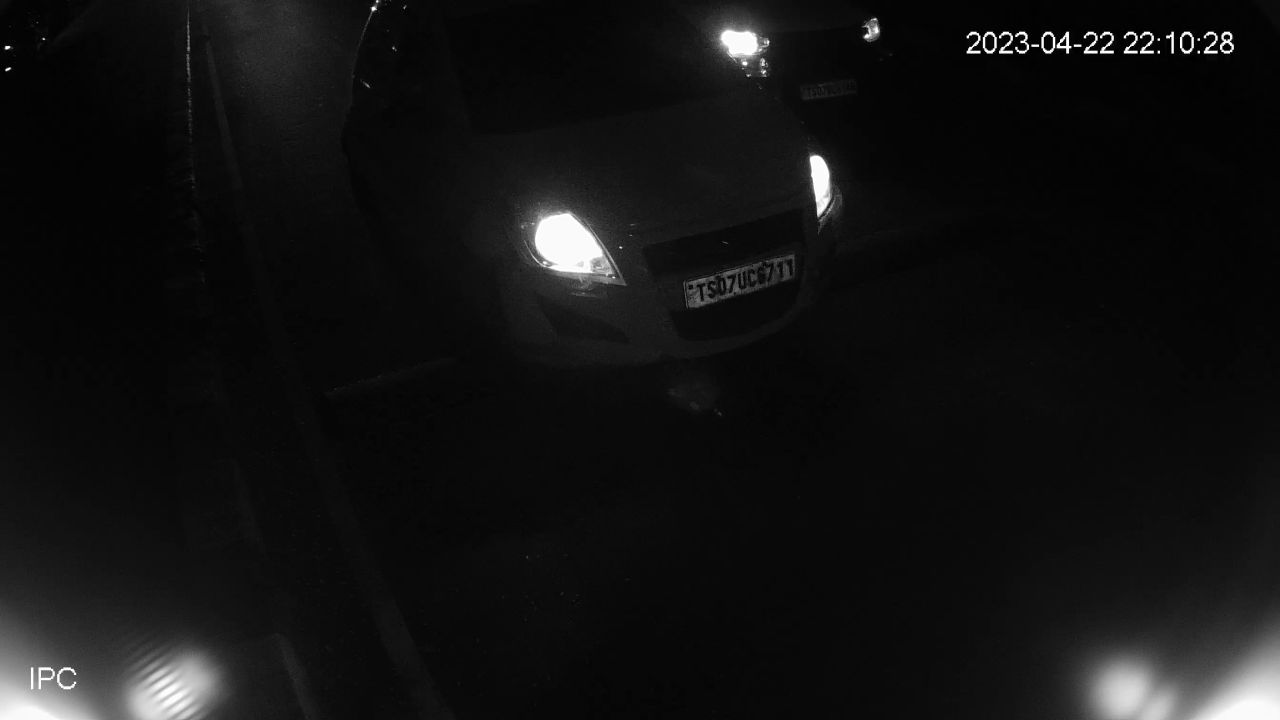license_plate: (678, 248, 803, 322)
